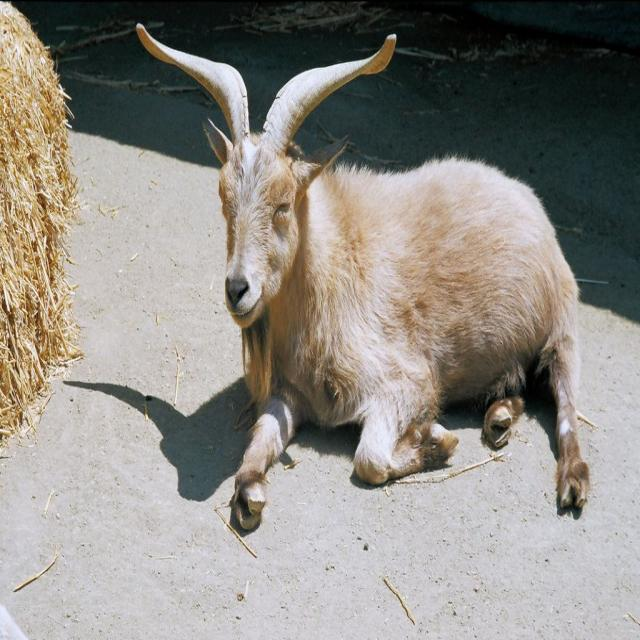Goat: (136, 23, 590, 529)
